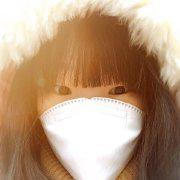OK: (35, 64, 147, 176)
